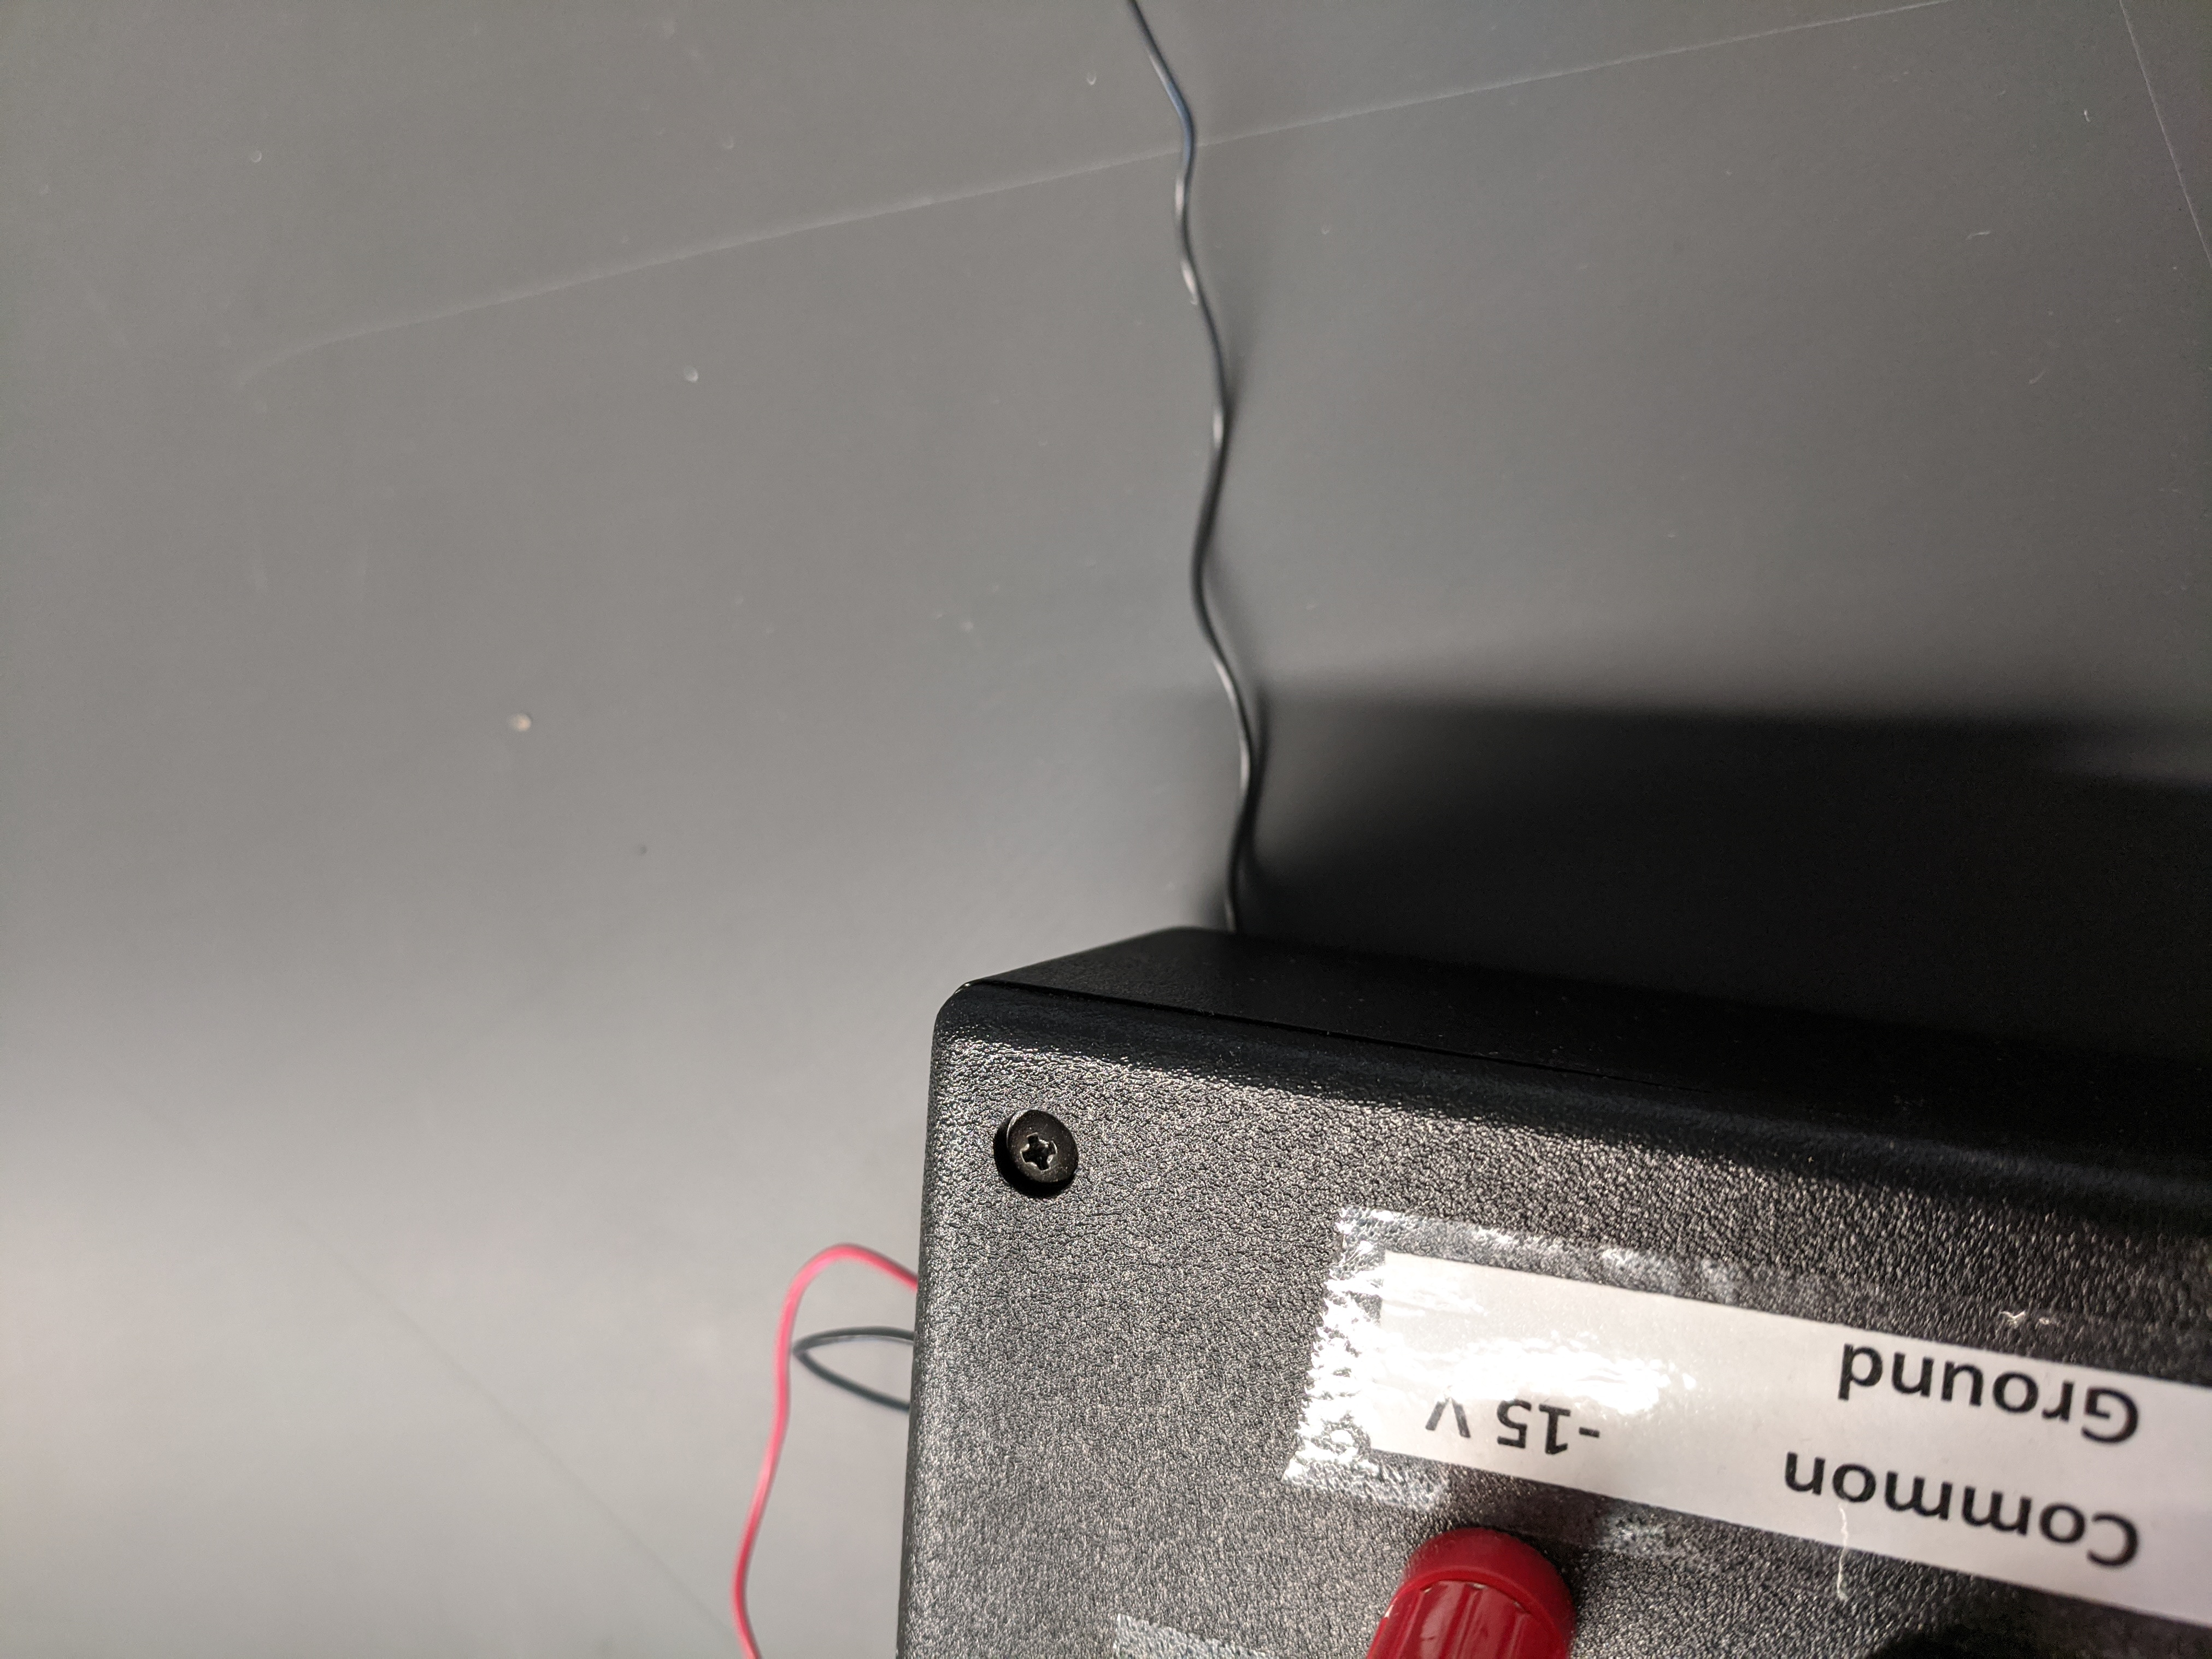cross_recessed_screw: (981, 1103, 1083, 1201)
